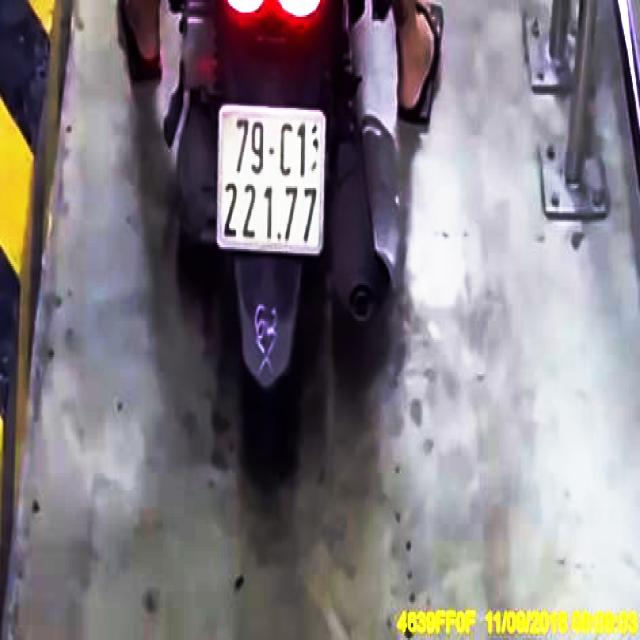license_plate: (219, 108, 325, 252)
